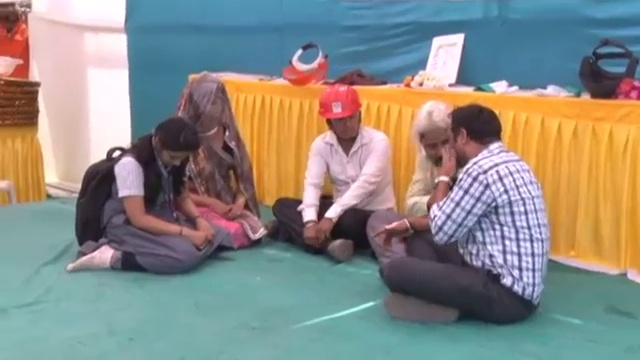helmet: (315, 86, 364, 122), (0, 53, 25, 80)
helmet_off: (447, 105, 506, 169), (412, 98, 454, 169), (184, 78, 232, 139), (144, 120, 199, 172), (1, 1, 22, 33)
helmet_on: (315, 86, 371, 148)
person: (384, 98, 556, 321), (269, 74, 414, 260), (66, 113, 220, 275), (171, 68, 263, 251), (371, 92, 463, 249), (0, 2, 34, 80)
